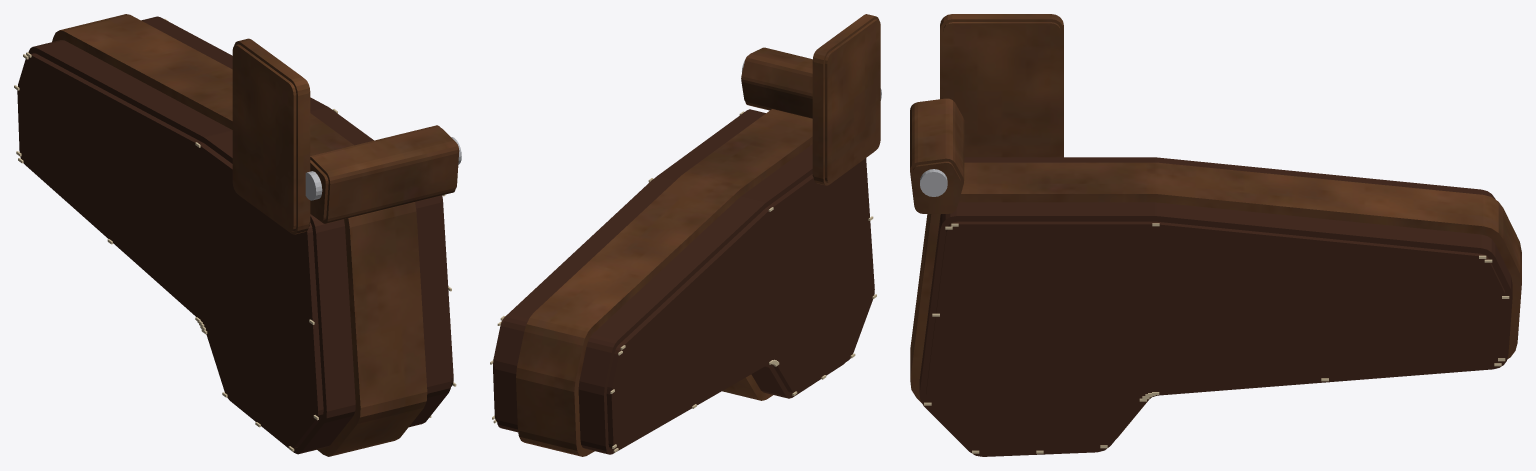
File: coldre_revolver.glb
3 views of the same model, side by side, from view 1: azimuth 30°, elevation 25°; view 2: azimuth 150°, elevation 25°; view 3: azimuth 270°, elevation 25° (orthographic). The views are drawn at different scales.
Parts seen in each view (by area): view 1: coldre_revolver_couro_escuro, coldre_revolver_couro, coldre_revolver_aco_inox, coldre_revolver_costura; view 2: coldre_revolver_couro_escuro, coldre_revolver_couro; view 3: coldre_revolver_couro_escuro, coldre_revolver_couro, coldre_revolver_aco_inox.
Boxes of the visible parts, <box> form: coldre_revolver_couro_escuro: <box>17,16,453,454</box>; coldre_revolver_couro: <box>52,14,459,456</box>; coldre_revolver_aco_inox: <box>305,137,461,200</box>; coldre_revolver_costura: <box>14,19,456,451</box>; coldre_revolver_couro_escuro: <box>493,109,874,454</box>; coldre_revolver_couro: <box>516,14,880,456</box>; coldre_revolver_couro_escuro: <box>919,157,1512,456</box>; coldre_revolver_couro: <box>910,14,1521,437</box>; coldre_revolver_aco_inox: <box>920,169,947,196</box>.
Bounding box in the file's own units: 0.0562 × 0.1368 × 0.1975.
4 materials, 1 textured.
